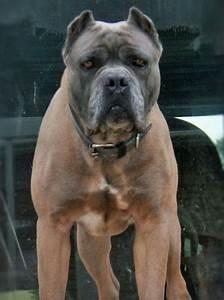dog: (29, 6, 197, 299)
